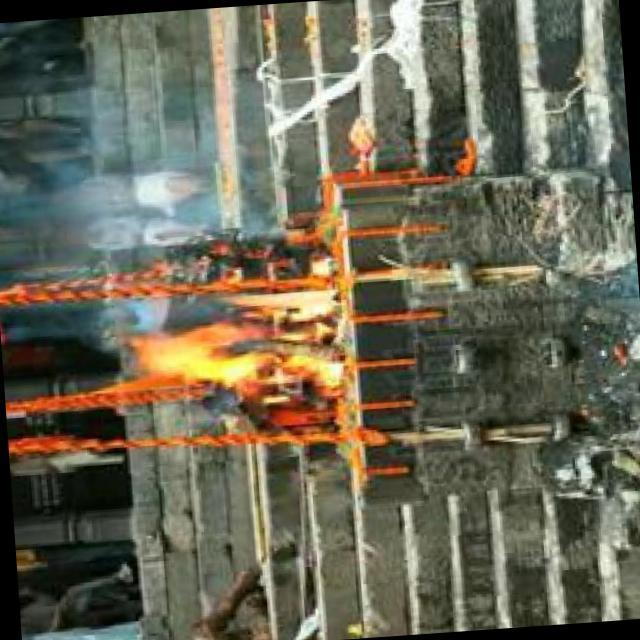Fire: (127, 259, 350, 408)
